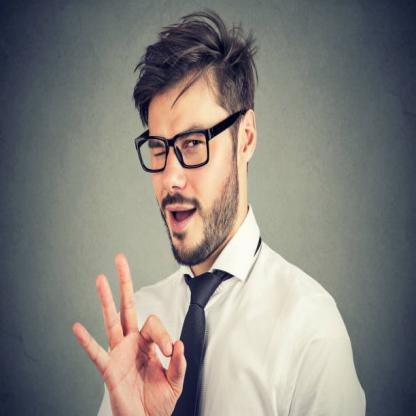ok: (70, 251, 188, 416)
